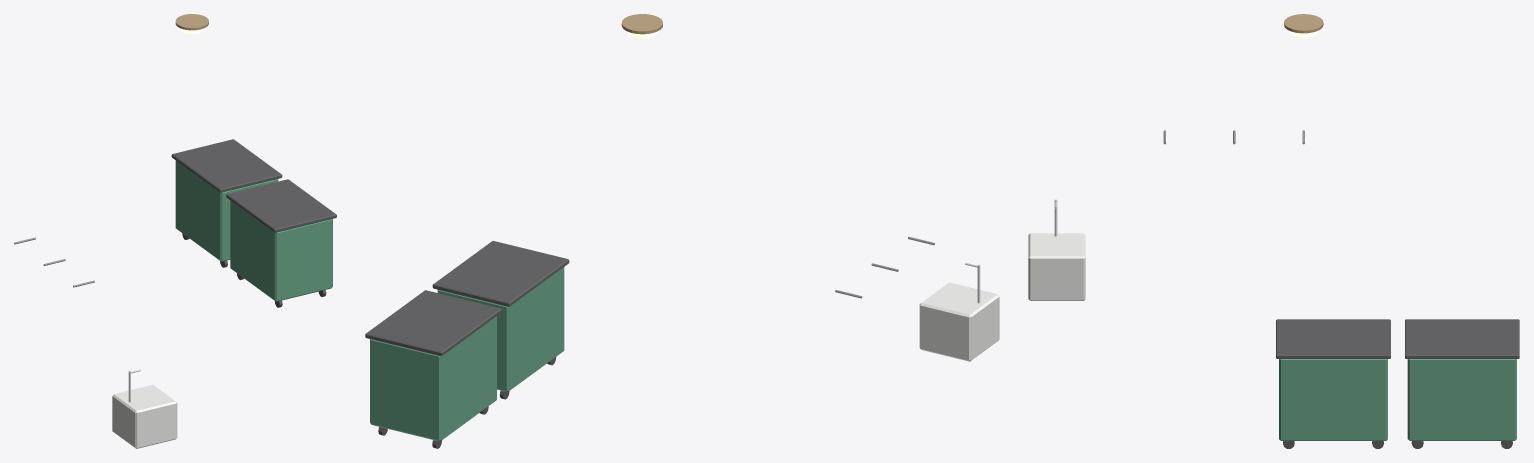
The model's file is service.glb.
3 renders of one model, left to right at view 1: azimuth 30°, elevation 25°; view 2: azimuth 150°, elevation 25°; view 3: azimuth 270°, elevation 25°, orthographic. The views are drawn at different scales.
Parts seen in each view (by area): view 1: service_felt, service_dark, service_porcelain, service_bronze; view 2: service_felt, service_dark, service_porcelain, service_bronze; view 3: service_felt, service_dark, service_porcelain, service_bronze.
Part boxes in pixels (x1,y1,x2,y2): service_felt: [175, 160, 332, 301]; service_dark: [171, 139, 336, 307]; service_porcelain: [112, 384, 177, 448]; service_bronze: [175, 14, 208, 30]; service_felt: [370, 267, 564, 441]; service_dark: [365, 241, 569, 448]; service_porcelain: [919, 282, 999, 361]; service_bronze: [621, 14, 662, 34]; service_felt: [1279, 359, 1516, 440]; service_dark: [1276, 319, 1519, 448]; service_porcelain: [1028, 233, 1085, 300]; service_bronze: [1284, 14, 1323, 33].
Bounding box in the file's own units: 4.27 × 3.95 × 4.96.
